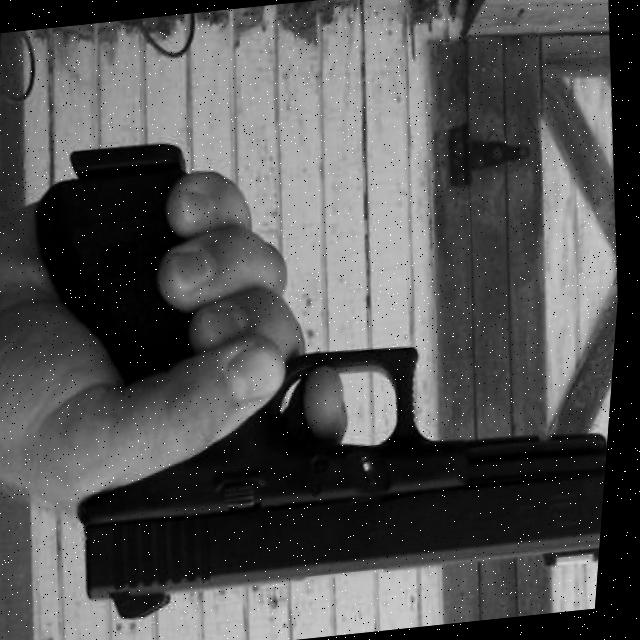pistol: (62, 318, 621, 624)
